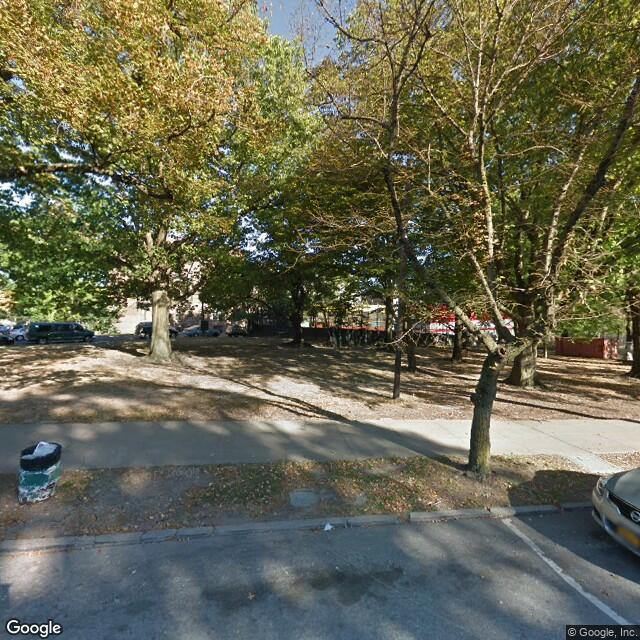litter: (319, 518, 349, 541)
